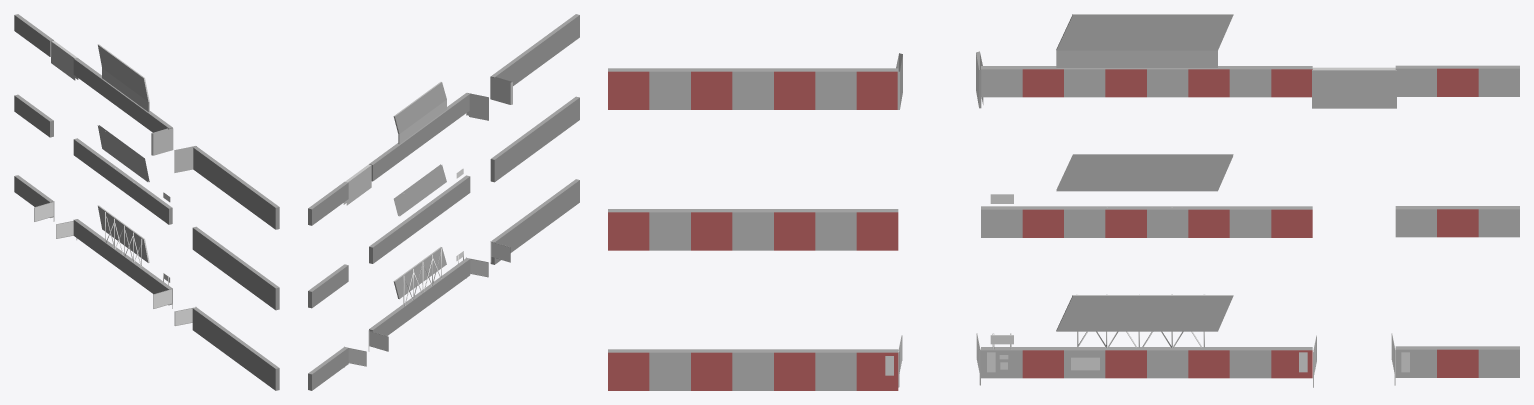
Rendered from garage_racetrack_test.dae.
3 renders of one model, left to right at view 1: azimuth 30°, elevation 25°; view 2: azimuth 150°, elevation 25°; view 3: azimuth 270°, elevation 25°, orthographic. The views are drawn at different scales.
Parts seen in each view (by area): view 1: garage_racetrack_Colmesh-1, garage_racetrack_a500, garage_racetrack_a200; view 2: garage_racetrack_Colmesh-1, garage_racetrack_a500, garage_racetrack_a200; view 3: garage_racetrack_Colmesh-1, garage_racetrack_a500, garage_racetrack_a200.
Boxes of the visible parts, left/top/right/bottom form: garage_racetrack_Colmesh-1: left=14, top=14, right=279, bottom=229; garage_racetrack_a500: left=14, top=175, right=279, bottom=390; garage_racetrack_a200: left=14, top=94, right=279, bottom=310; garage_racetrack_Colmesh-1: left=308, top=14, right=579, bottom=225; garage_racetrack_a500: left=308, top=179, right=579, bottom=390; garage_racetrack_a200: left=308, top=96, right=579, bottom=308; garage_racetrack_Colmesh-1: left=608, top=14, right=1519, bottom=109; garage_racetrack_a500: left=608, top=294, right=1519, bottom=390; garage_racetrack_a200: left=608, top=154, right=1519, bottom=250.
Size of the model in its own units: 2.89 by 58.83 by 26.68.
